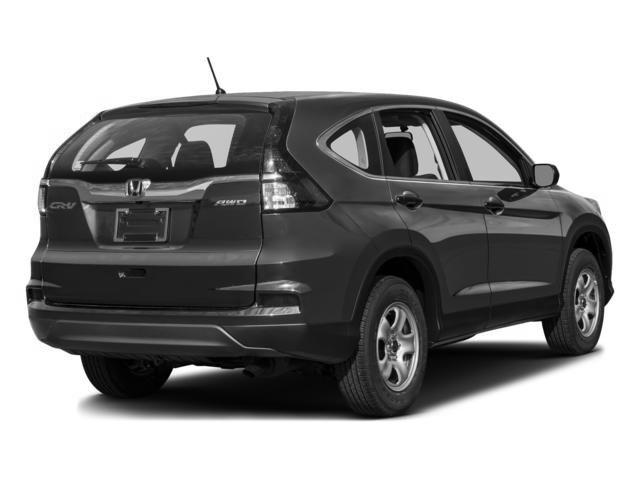Car boot: (33, 90, 274, 314)
Driver-s door - -F-R-: (436, 93, 568, 324)
Fender - -F-R-: (536, 176, 613, 290)
Fender - -R-R-: (286, 102, 420, 299)
Passenger-s door - -R-R-: (348, 82, 489, 345)
Rear bumper: (18, 267, 362, 370)
Rear light - -R-: (258, 96, 333, 212)
Side bumper - -R-: (435, 265, 576, 365)
Side mirror - -R-: (524, 162, 559, 193)
